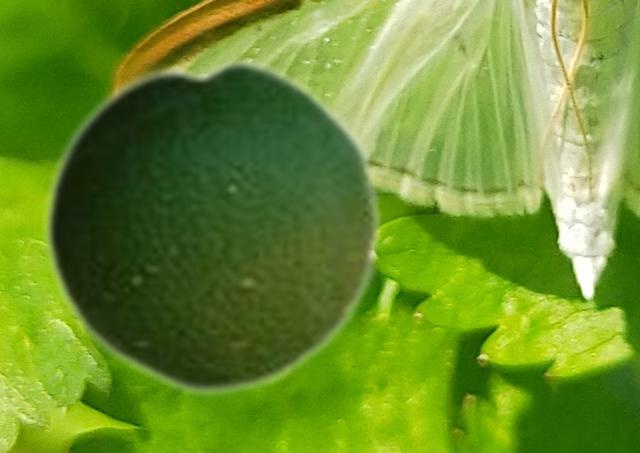dalandan: (41, 53, 383, 399)
